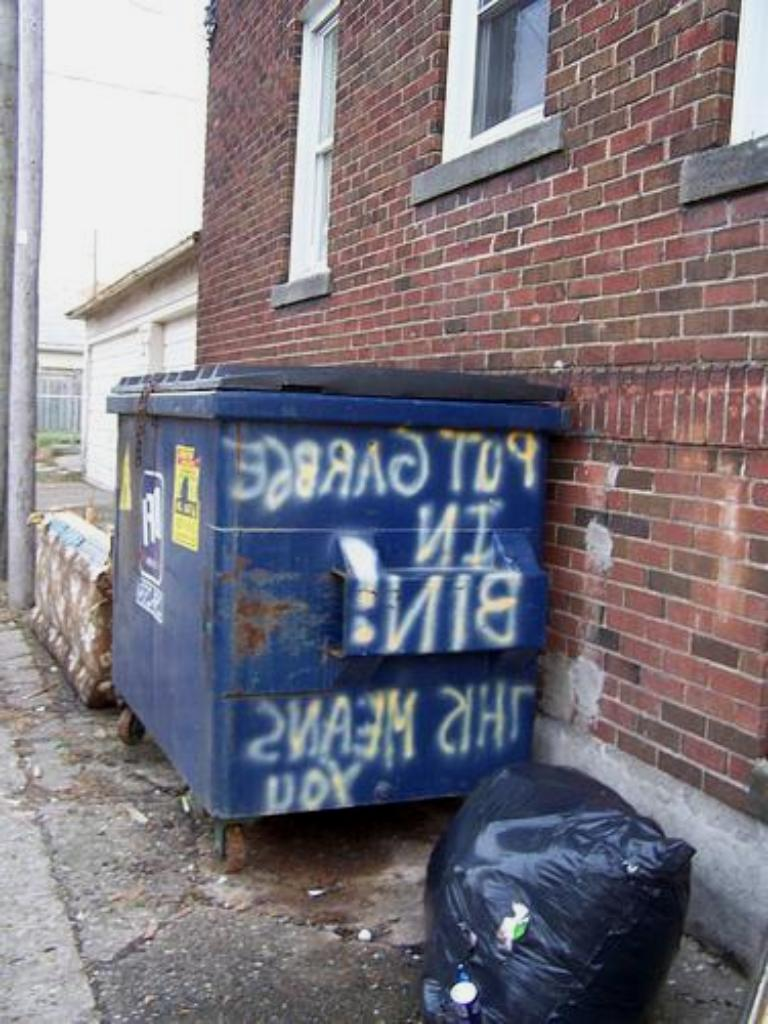dustbin: (98, 342, 567, 839)
